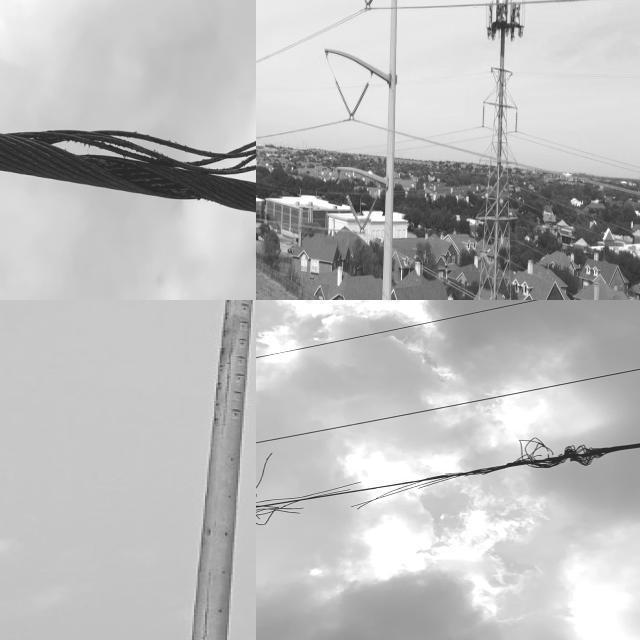杆塔: (461, 51, 522, 300)
正常绝缘子: (345, 75, 373, 130), (340, 183, 368, 238), (330, 69, 356, 123), (356, 190, 381, 242), (480, 94, 488, 135), (513, 102, 521, 140), (362, 0, 376, 16), (361, 0, 373, 15)
电缆破损: (256, 411, 630, 538), (26, 81, 256, 201)
